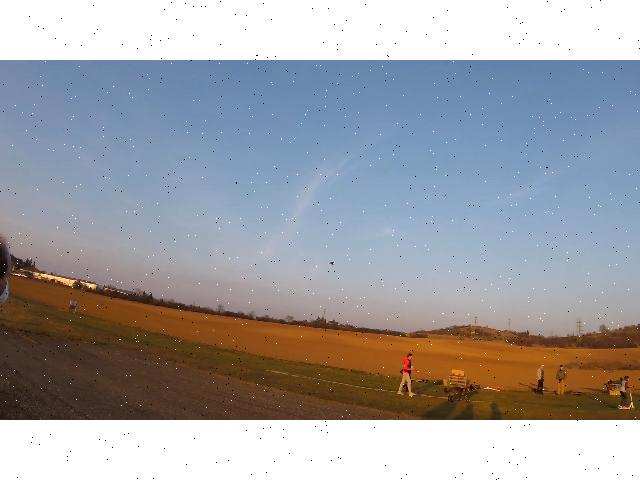Anti-Drone: (328, 261, 334, 265)
